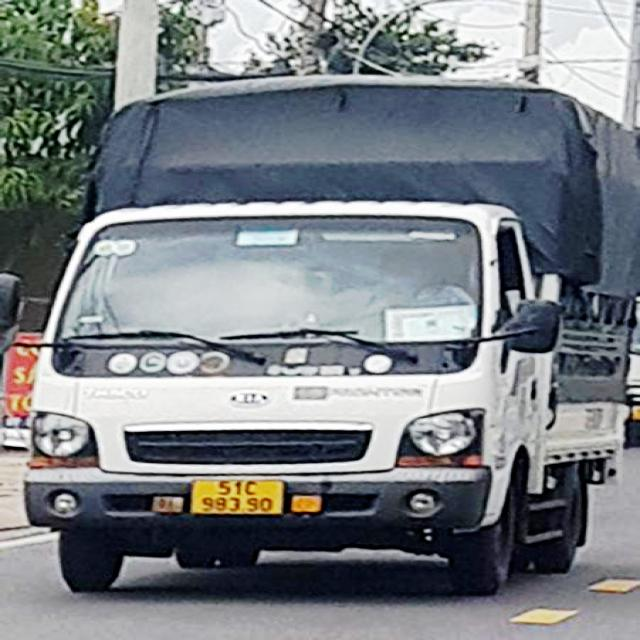license_plate: (191, 480, 283, 515)
